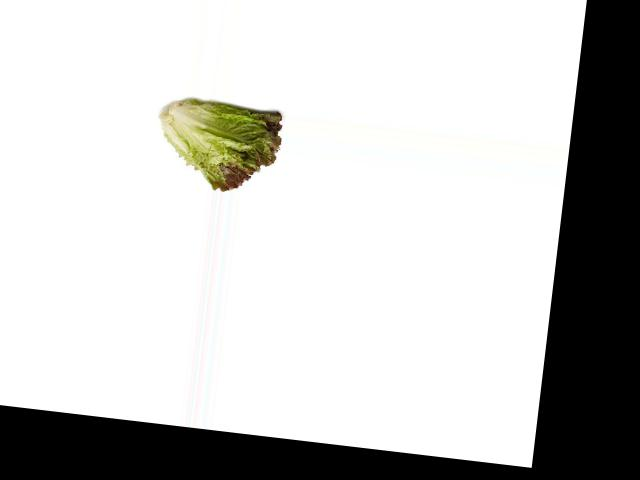lettuce: (153, 97, 286, 195)
